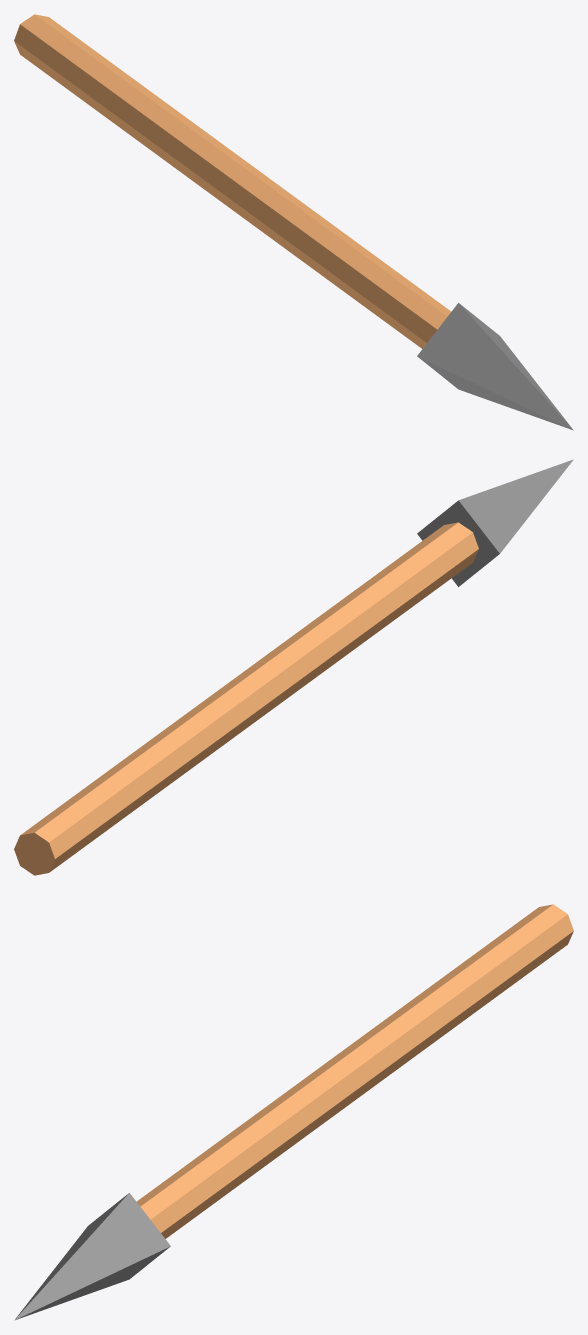
The model's file is ballista_arrow.01.fbx.
3 renders of one model, top to bottom at view 1: azimuth 30°, elevation 25°; view 2: azimuth 150°, elevation 25°; view 3: azimuth 330°, elevation 25°, orthographic.
Parts seen in each view (by area): view 1: ballista_arrow.01; view 2: ballista_arrow.01; view 3: ballista_arrow.01.
Part boxes in pixels (x1,y1,x2,y2): ballista_arrow.01: (14,14,573,430); ballista_arrow.01: (14,459,573,875); ballista_arrow.01: (14,904,573,1320).
Size of the model in its own units: 0.2332 by 0.2332 by 2.62.
